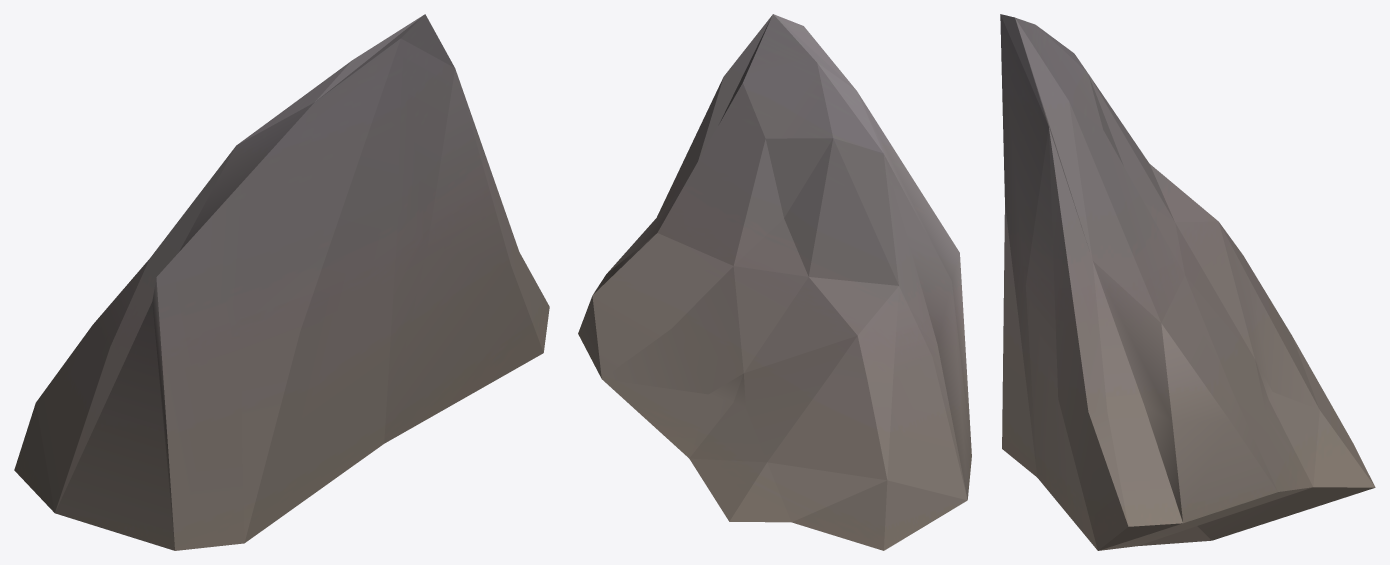
The picture shows the model from 3 angles, left to right: view 1: azimuth 30°, elevation 25°; view 2: azimuth 150°, elevation 25°; view 3: azimuth 270°, elevation 25°; orthographic projection. The views are drawn at different scales.
Parts seen in each view (by area): view 1: SharpRock1; view 2: SharpRock1; view 3: SharpRock1.
Part boxes in pixels (box(x1,y1,x2,y2)): SharpRock1: box(14, 14, 549, 550); SharpRock1: box(578, 14, 971, 550); SharpRock1: box(1000, 14, 1375, 550).
Size of the model in its own units: 2.98 by 2.97 by 1.82.
1 material, 1 textured.
